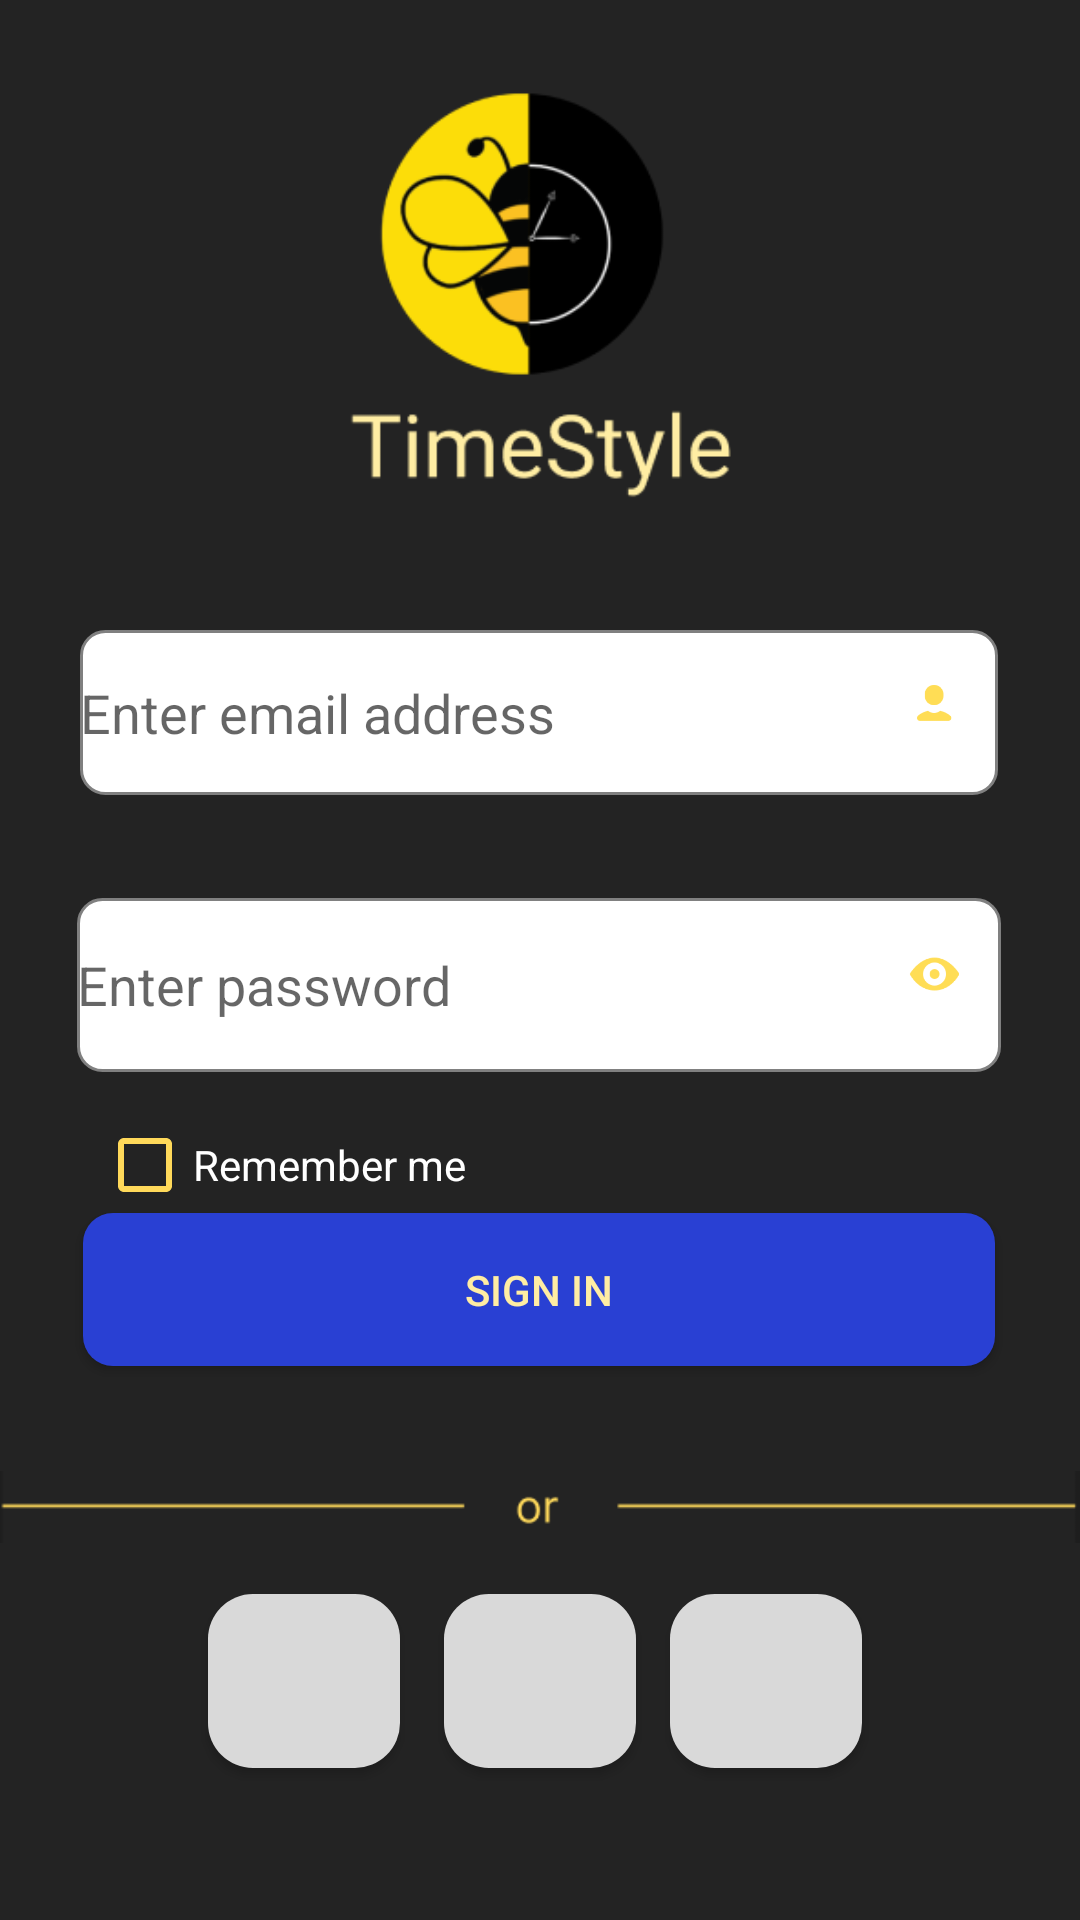

Icon bounding boxes for this 1080px×1920px phone screenshot, format (x1, y1, x2, y2):
eye: (910, 957, 959, 991)
human: (917, 685, 952, 721)
